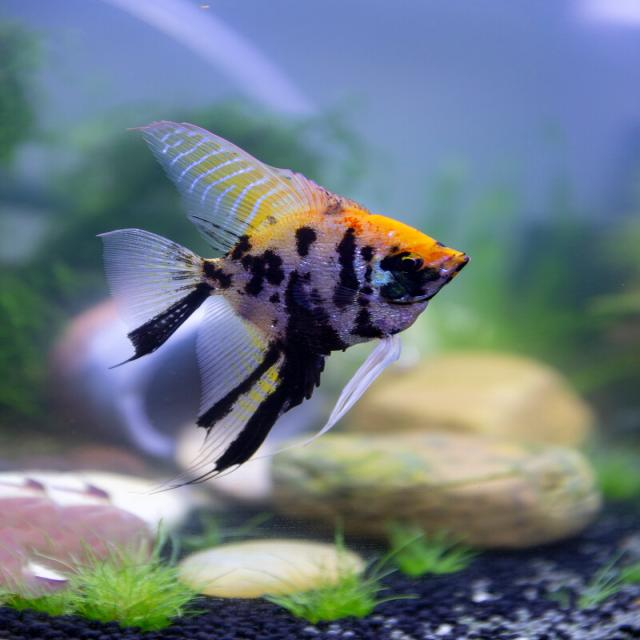AngelFish: (112, 115, 472, 494)
